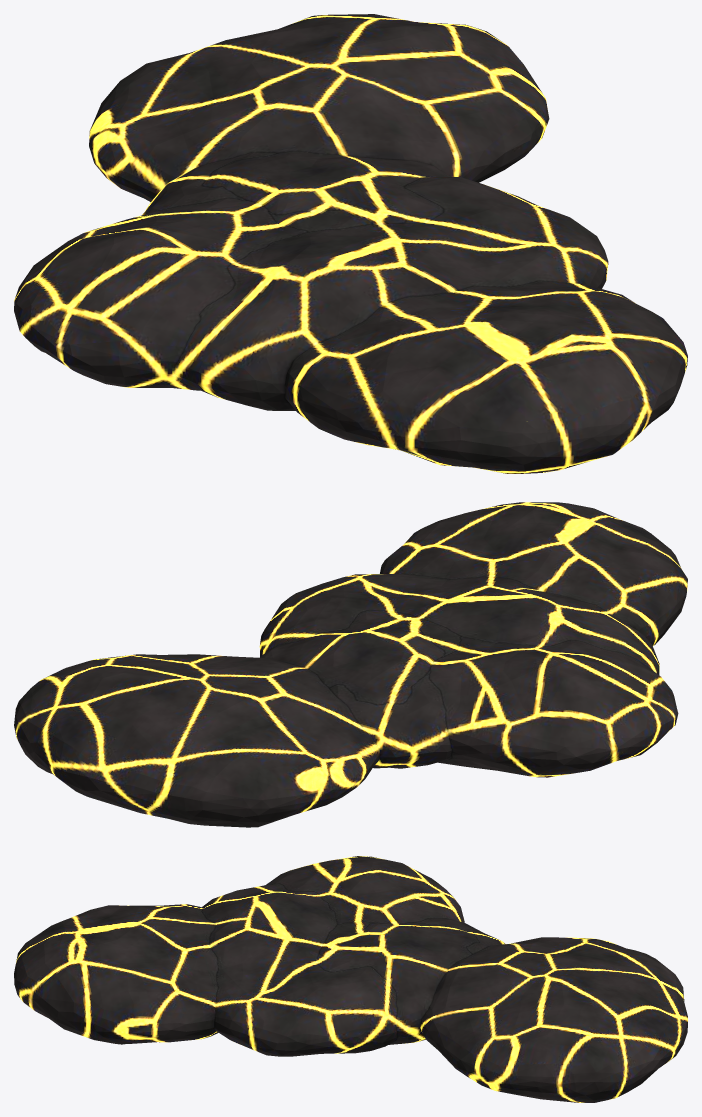
Rendered from escoria_basalto_brasa_c.glb.
3 renders of one model, top to bottom at view 1: azimuth 30°, elevation 25°; view 2: azimuth 150°, elevation 25°; view 3: azimuth 270°, elevation 25°, orthographic. The views are drawn at different scales.
Parts seen in each view (by area): view 1: escoria_basalto_brasa_c_tronco; view 2: escoria_basalto_brasa_c_tronco; view 3: escoria_basalto_brasa_c_tronco.
Boxes of the visible parts, box(x1,y1,x2,y2) form: escoria_basalto_brasa_c_tronco: box(14, 14, 687, 473); escoria_basalto_brasa_c_tronco: box(14, 502, 687, 827); escoria_basalto_brasa_c_tronco: box(14, 856, 687, 1102).
Size of the model in its own units: 2.04 by 0.4155 by 2.69.
Materials: 1 (1 with a texture image).
